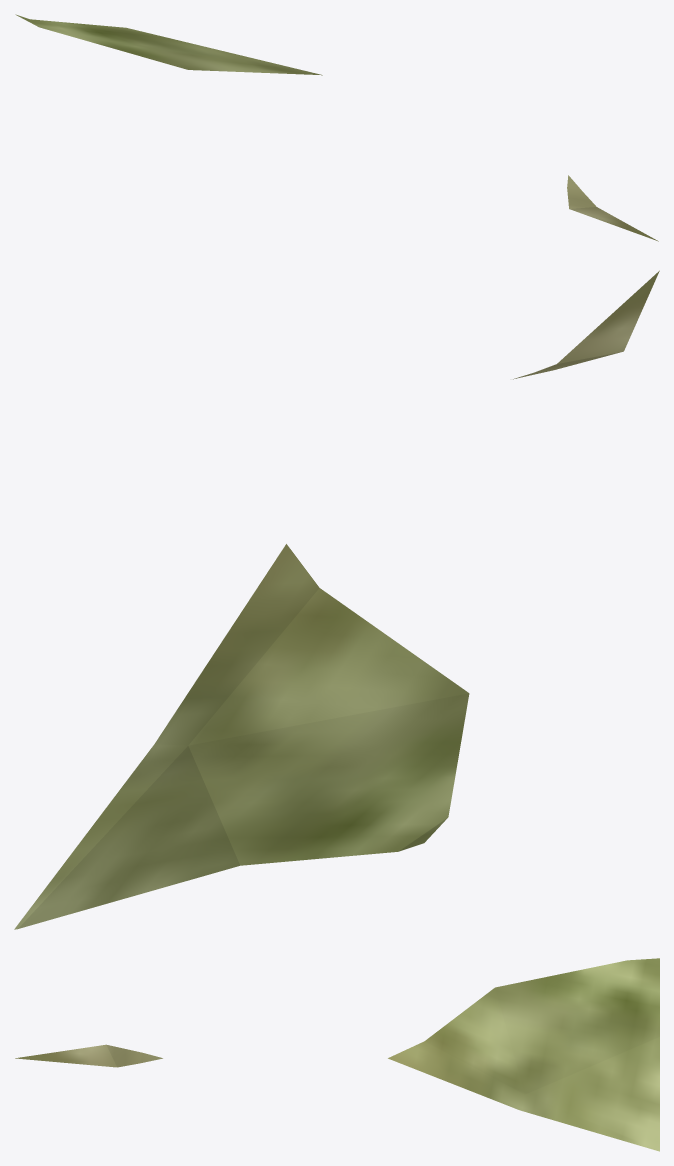
The picture shows the model from 3 angles, top to bottom: view 1: azimuth 30°, elevation 25°; view 2: azimuth 150°, elevation 25°; view 3: azimuth 270°, elevation 25°; orthographic projection. The views are drawn at different scales.
Bounding box in the file's own units: 0.2298 × 0.0999 × 0.6267.
Materials: 1 (1 with a texture image).
